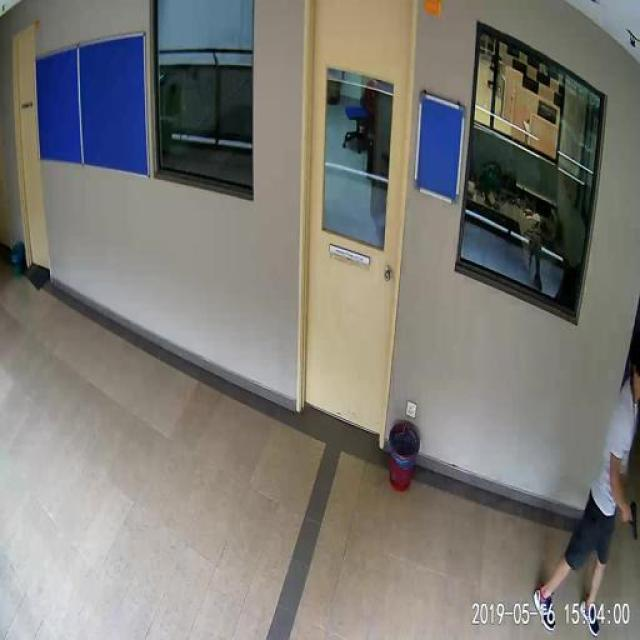Gun: (622, 501, 640, 544)
